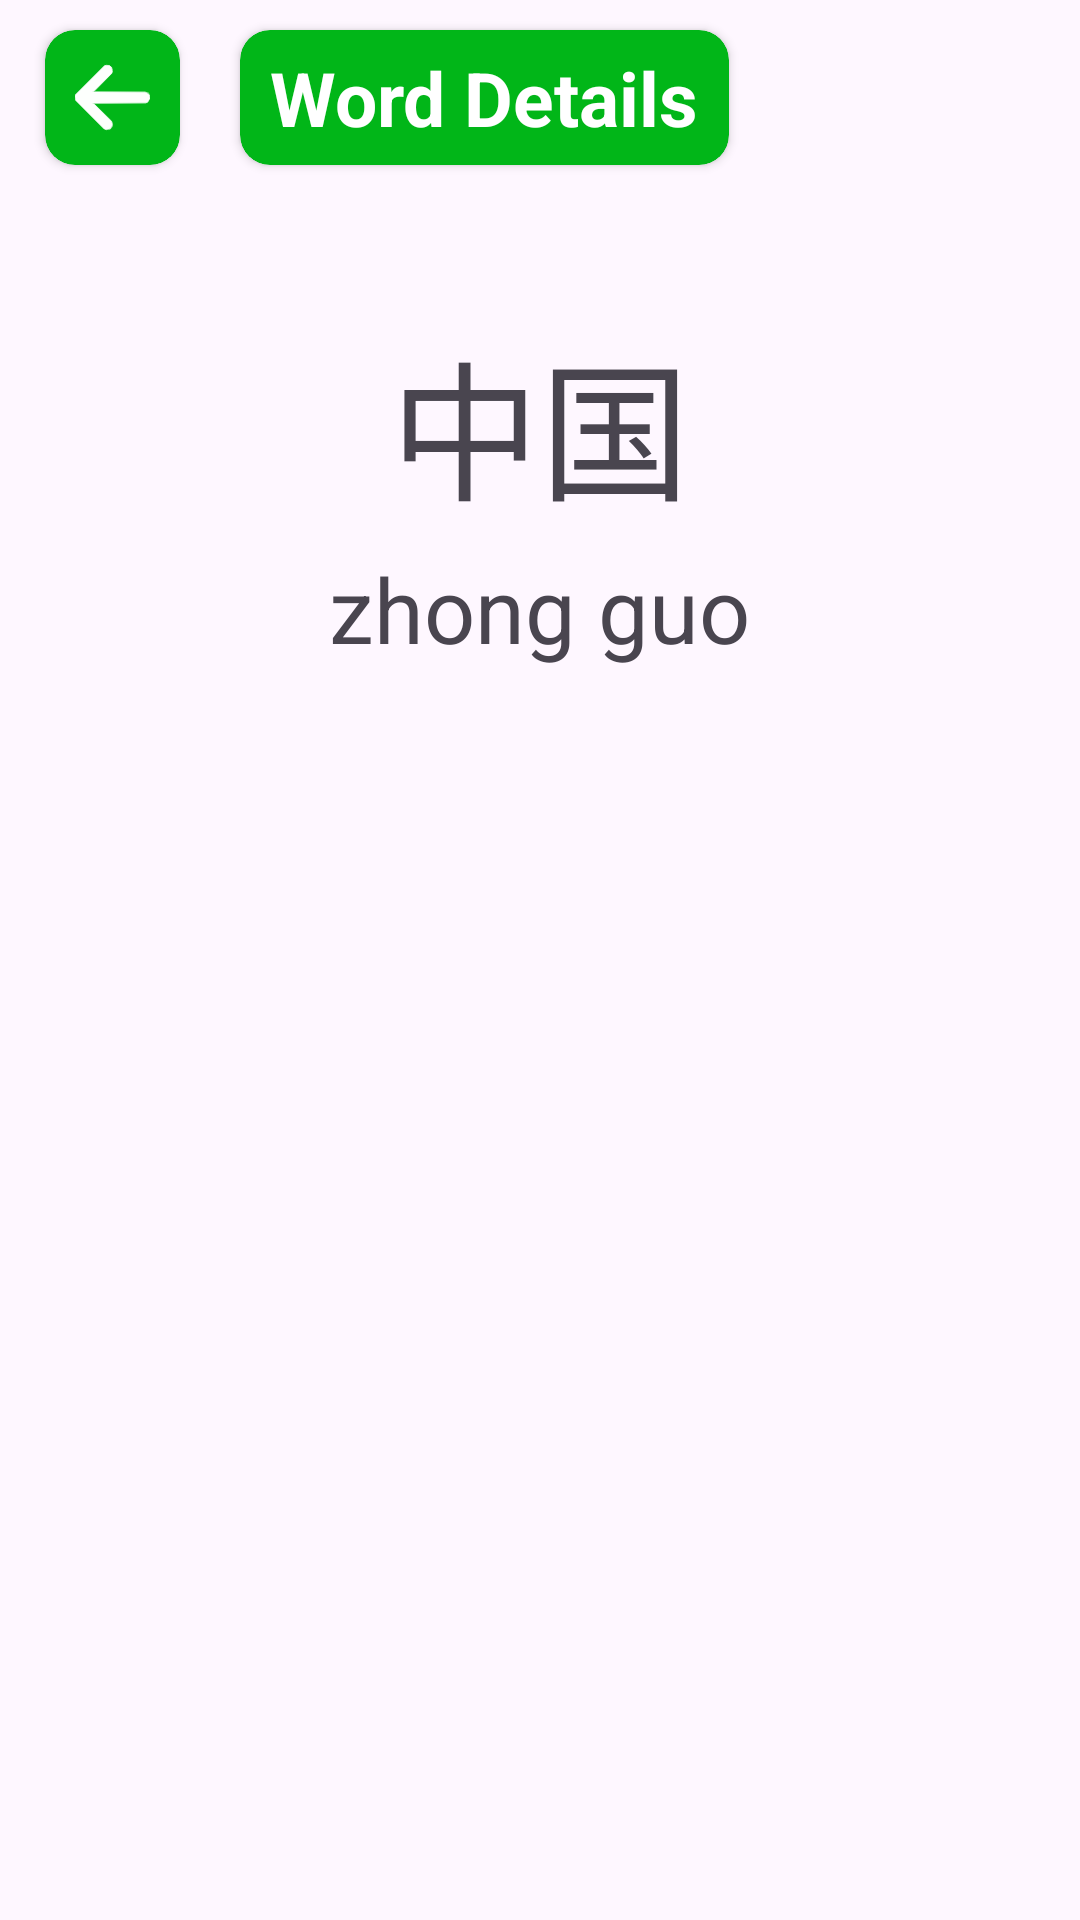

Where to tap for icons on this 1080*1920 app screen, as point (x, y):
back: point (112, 97)
